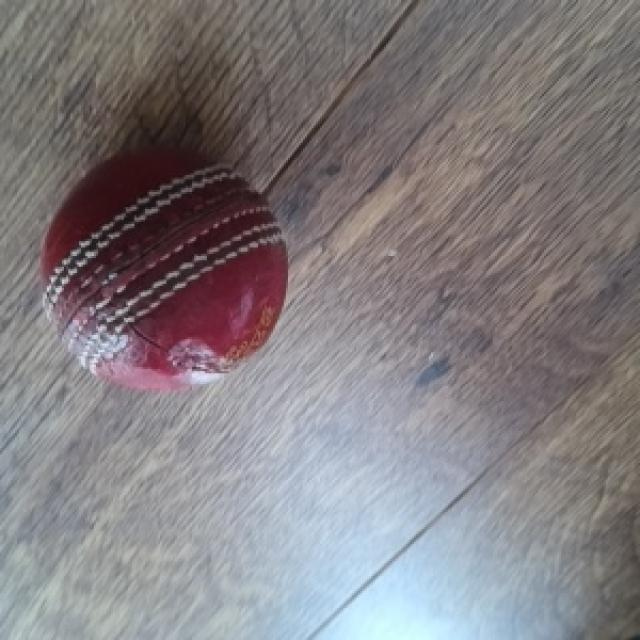ball: (43, 147, 290, 397)
